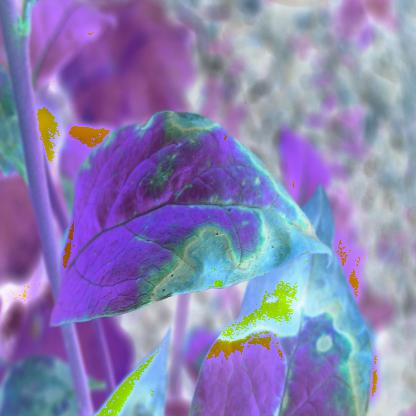blueberry leaf: (43, 105, 356, 334), (190, 185, 399, 415)
